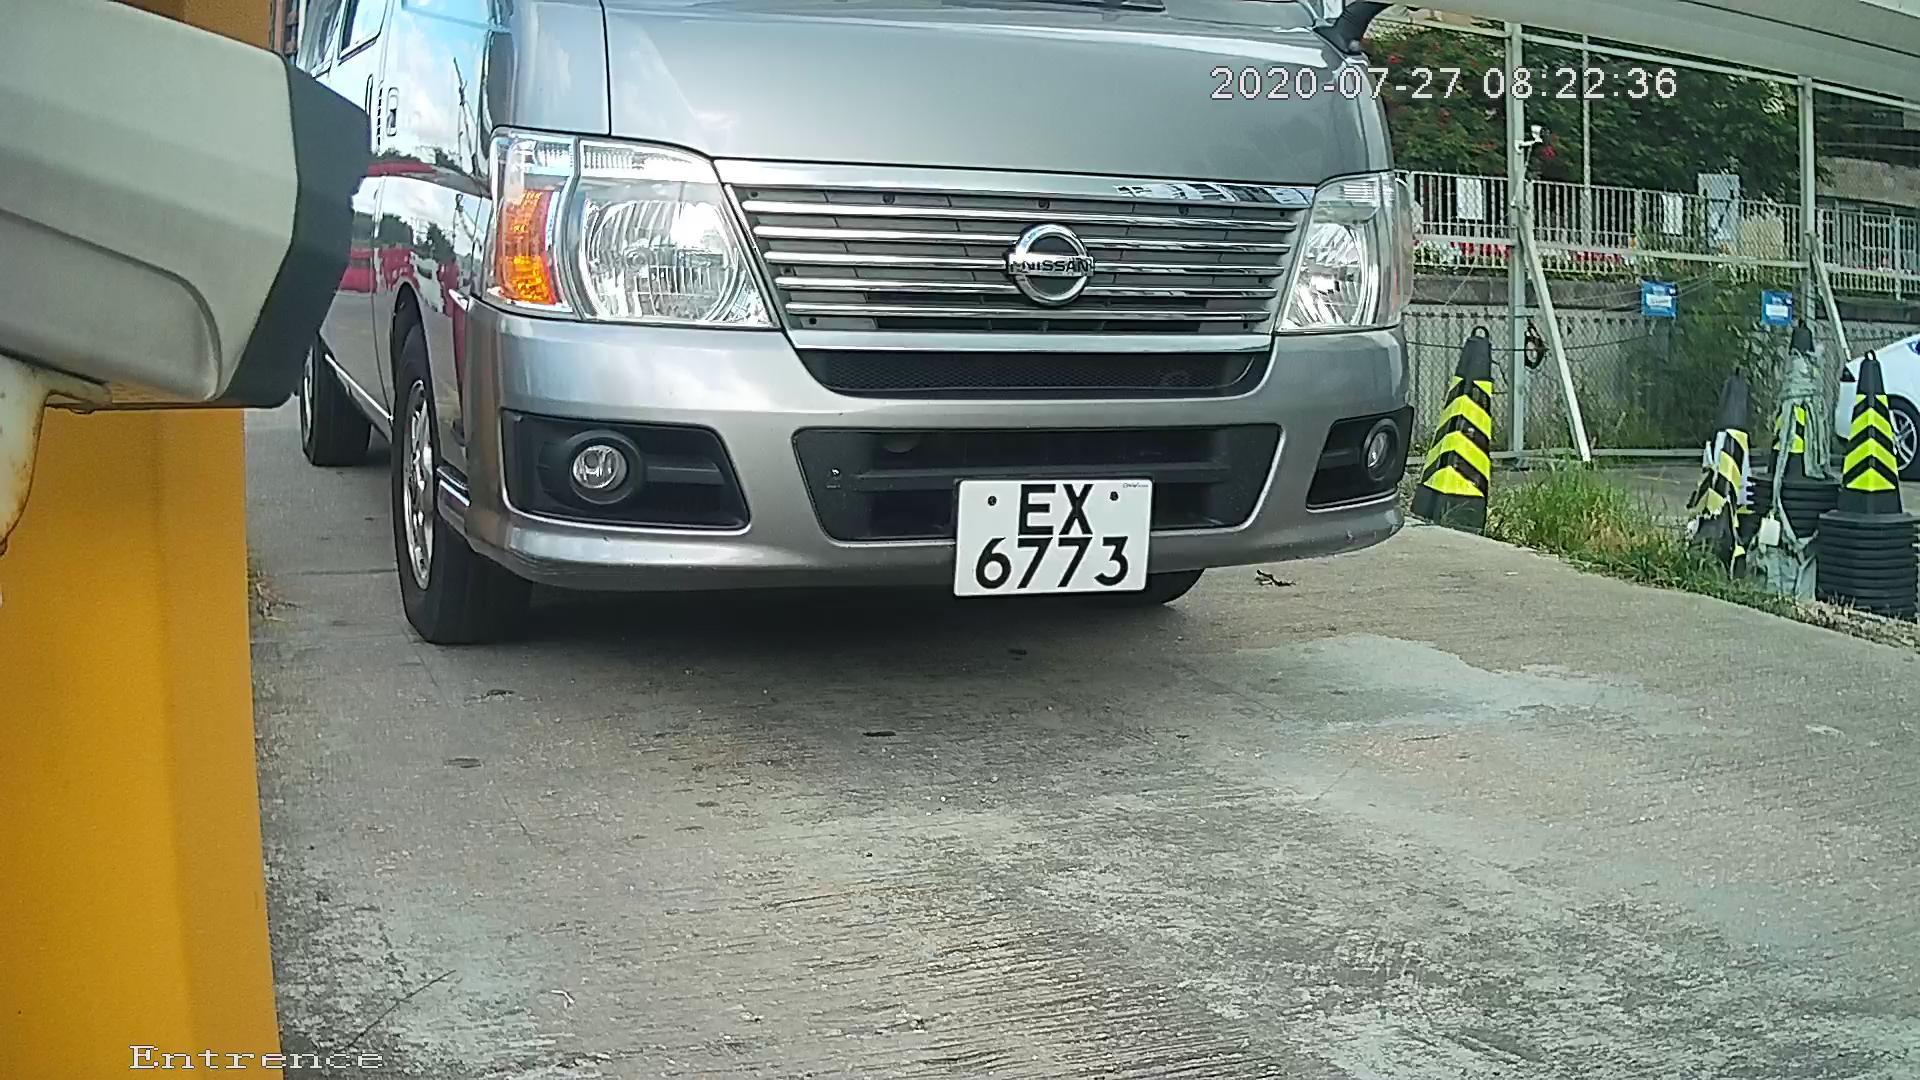Car: (241, 10, 1561, 733)
License Plate: (926, 468, 1158, 598)
